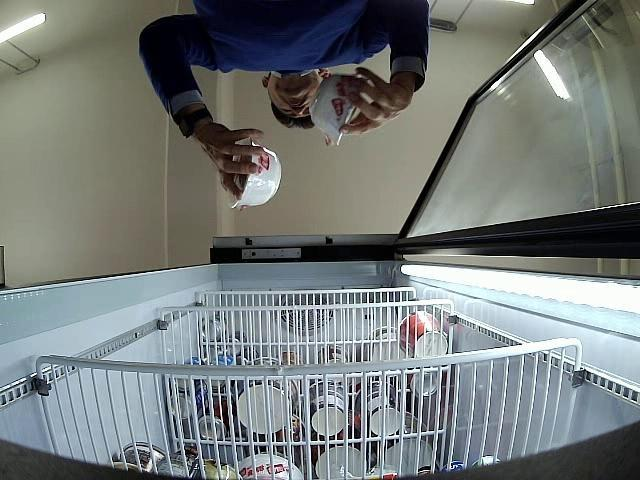09_yukGaeJang: (228, 135, 282, 209), (312, 75, 356, 146)
